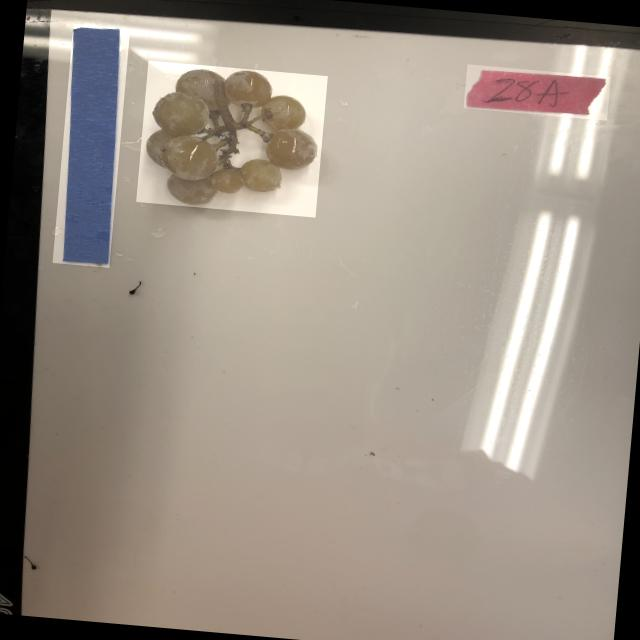grape_cluster: (136, 60, 328, 217)
index: (463, 64, 610, 120)
measure_label: (52, 24, 130, 268)
